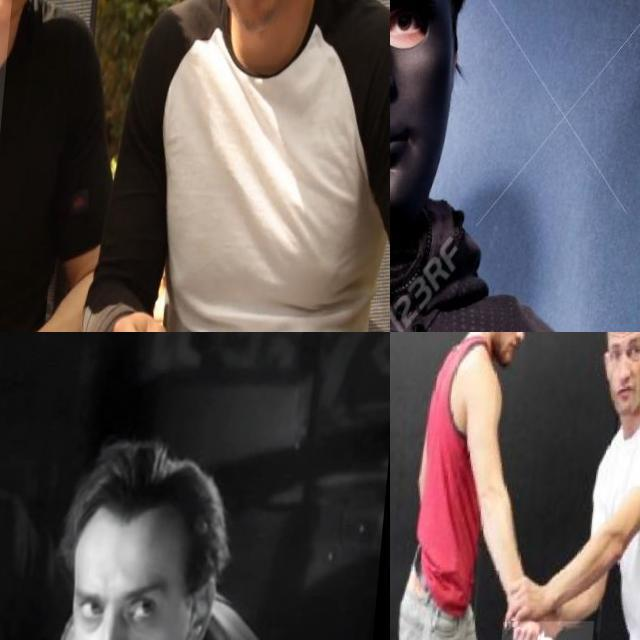-: (0, 0, 47, 159), (506, 621, 601, 640)
